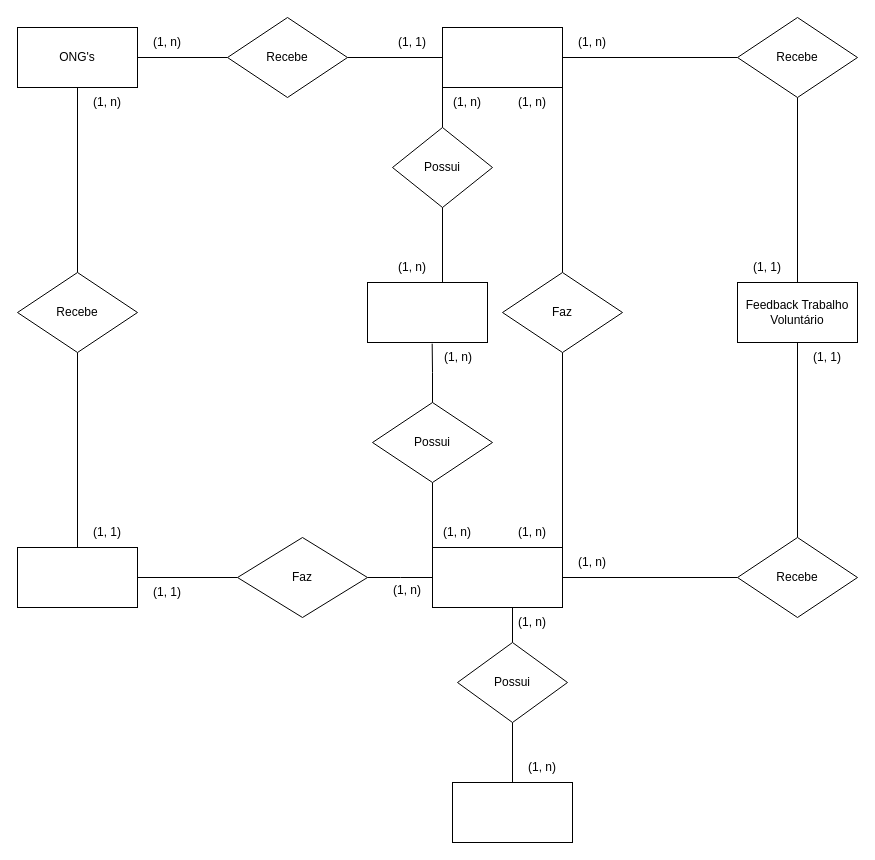
This 875x860 diagram has some shape labels left out. Each missing label, with the centre of its shape:
Causa: [427,312]
Doação: [77,577]
Endereço: [512,812]
Trabalho Voluntário: [502,57]
Usuários: [497,577]
